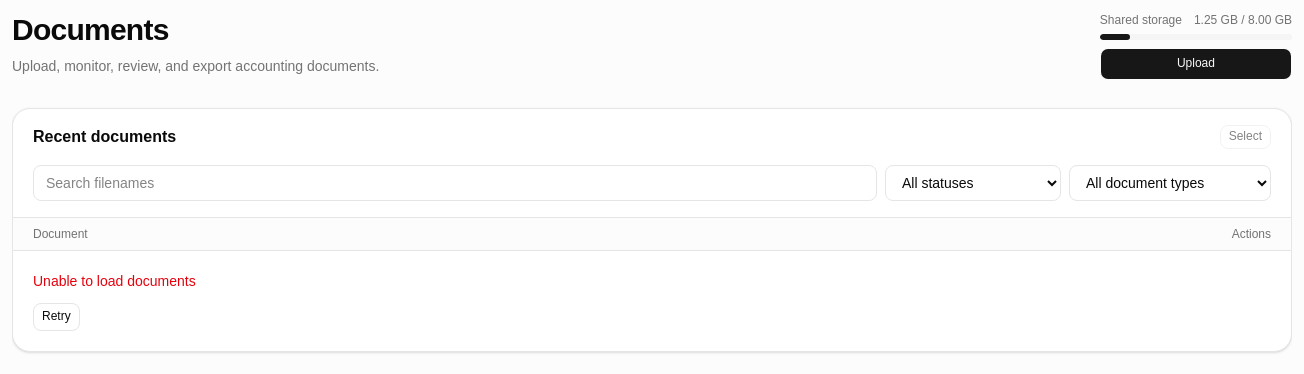
DashboardPage › retries a failed document-list query
expect the text "Unable to load documents" is shown: met, box [33,273,196,289]
What coordinates should you click on to do the following:
click the button "Retry"
I would click on:
 (56, 317)
Its box is [33,303,80,331].
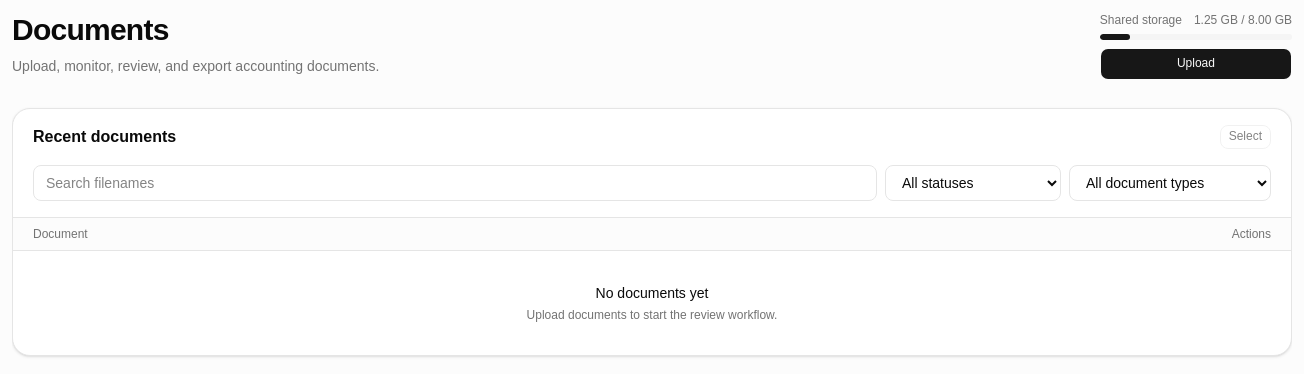
expect the text "No documents yet" is shown: met, box [596,285,708,301]
